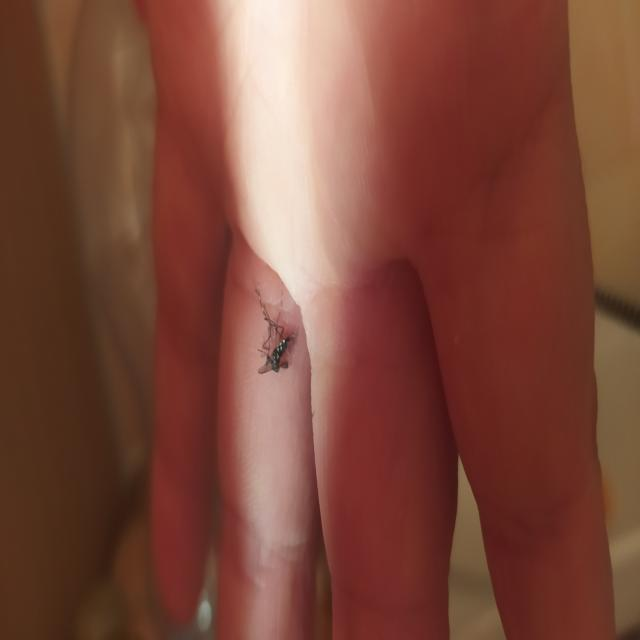albopictus: (247, 274, 297, 394)
